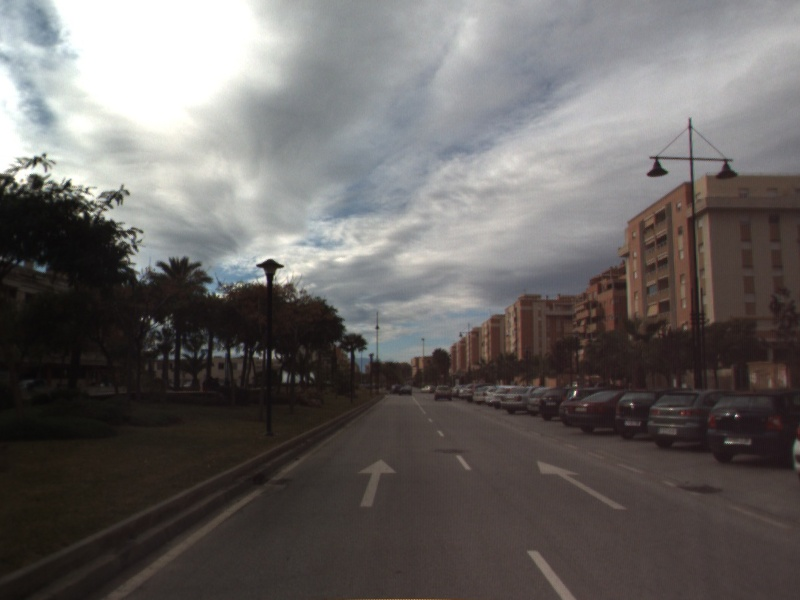STRAIGHT: (536, 459, 628, 511), (356, 457, 399, 509)
